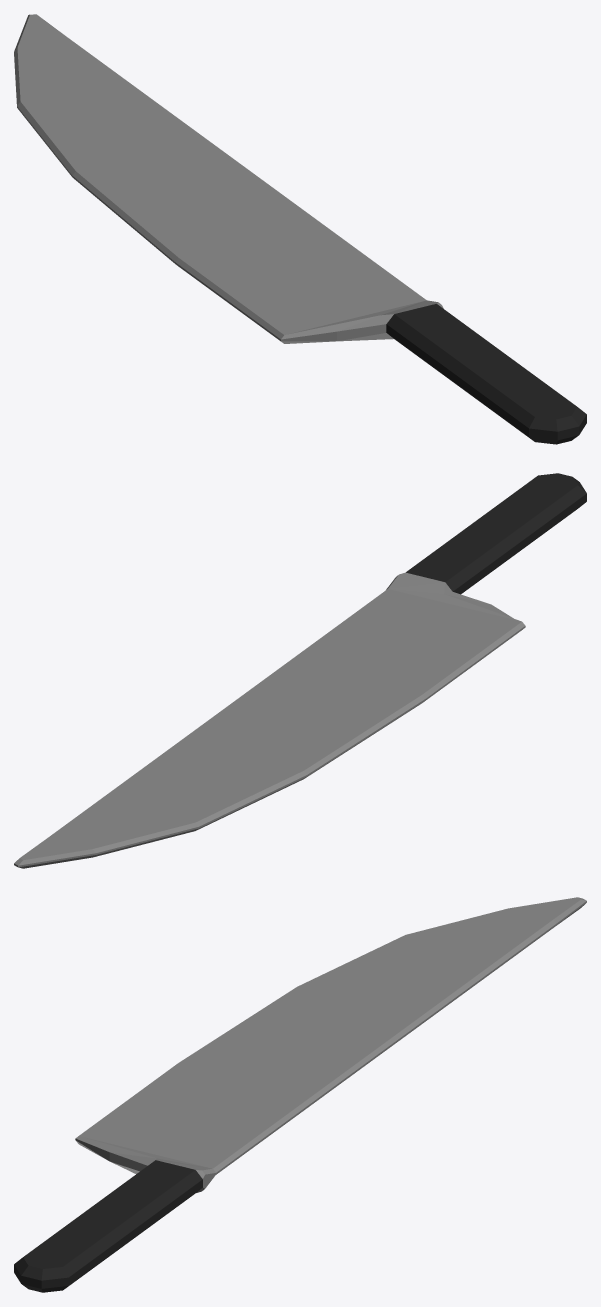
The model's file is ButcherKnife.fbx.
3 renders of one model, top to bottom at view 1: azimuth 30°, elevation 25°; view 2: azimuth 150°, elevation 25°; view 3: azimuth 330°, elevation 25°, orthographic. The views are drawn at different scales.
Parts seen in each view (by area): view 1: LargeKnife; view 2: LargeKnife; view 3: LargeKnife.
Part boxes in pixels (x1,y1,x2,y2): LargeKnife: (14,14,586,444); LargeKnife: (14,473,586,868); LargeKnife: (14,897,586,1292).
Bounding box in the file's own units: 0.0518 × 0.00829 × 0.3378.
Materials: 1 (1 with a texture image).
